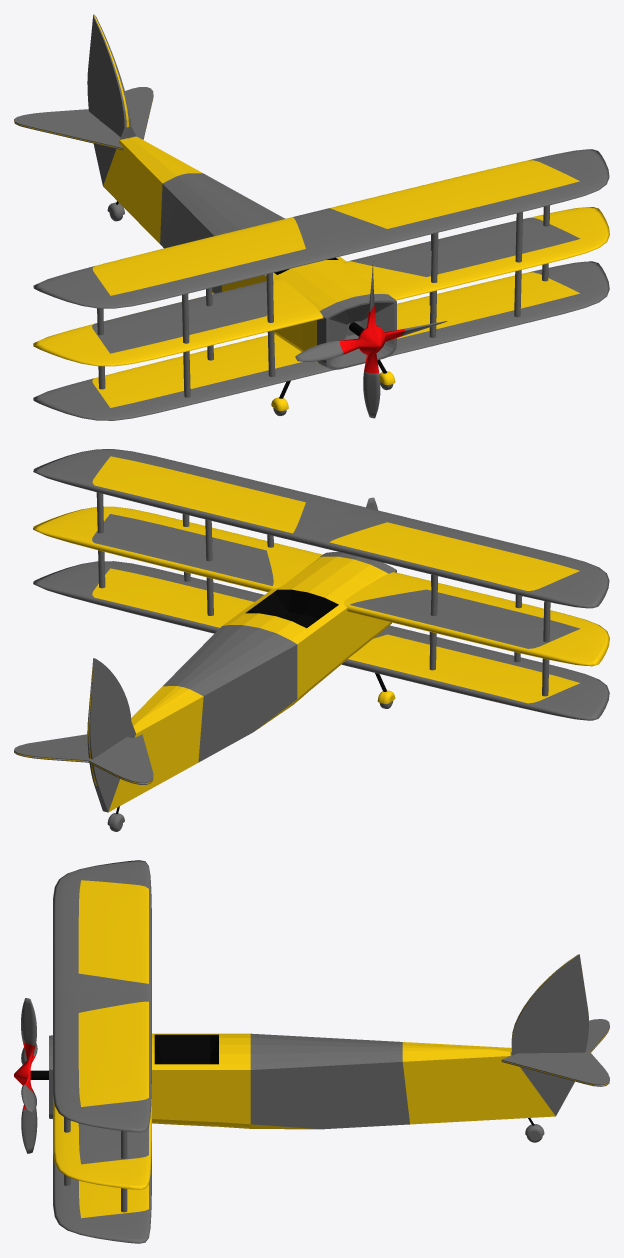
3 views of the same model, one above another, from view 1: azimuth 30°, elevation 25°; view 2: azimuth 150°, elevation 25°; view 3: azimuth 270°, elevation 25° (orthographic).
Visible parts, largest first — view 1: Cube.013, Cube.015, Cube, Cube.016, Cube.014, Cube.012, Cube.025, Cube.039, Plane.001, Cylinder.023, Cylinder.007, Cylinder.016 (+2 smaller); view 2: Cube, Cube.013, Cube.015, Cube.016, Cube.014, Cube.012, Cube.039, Cube.025, Plane.001, Cylinder.006, Cylinder.026, Cylinder.017 (+1 smaller); view 3: Cube, Cube.039, Cube.015, Cube.013, Cube.012, Cube.025, Plane.001, Cylinder.023.
Part boxes in pixels (x1,y1,x2,y2): Cube.013: [33, 212, 359, 308]; Cube.015: [311, 149, 609, 251]; Cube: [160, 173, 396, 369]; Cube.016: [33, 278, 323, 366]; Cube.014: [33, 334, 333, 420]; Cube.012: [343, 207, 609, 300]; Cube.025: [389, 261, 609, 356]; Cube.039: [87, 14, 202, 243]; Plane.001: [14, 87, 153, 150]; Cylinder.023: [295, 261, 447, 418]; Cylinder.007: [514, 212, 522, 317]; Cylinder.016: [266, 273, 275, 376]; Cube: [163, 552, 396, 762]; Cube.013: [309, 505, 609, 608]; Cube.015: [33, 449, 357, 544]; Cube.016: [343, 572, 609, 666]; Cube.014: [341, 625, 609, 720]; Cube.012: [33, 506, 322, 592]; Cube.039: [87, 658, 203, 812]; Cube.025: [33, 561, 263, 633]; Plane.001: [14, 734, 153, 784]; Cylinder.006: [205, 519, 213, 615]; Cylinder.026: [542, 601, 550, 696]; Cylinder.017: [429, 574, 437, 670]; Cube: [49, 1033, 409, 1129]; Cube.039: [402, 954, 588, 1124]; Cube.015: [53, 992, 151, 1132]; Cube.013: [53, 860, 151, 996]; Cube.012: [53, 1084, 151, 1189]; Cube.025: [53, 1142, 151, 1243]; Plane.001: [501, 1019, 609, 1086]; Cylinder.023: [14, 998, 37, 1153].
Bounding box in the file's own units: 2493 × 896 × 2299.
